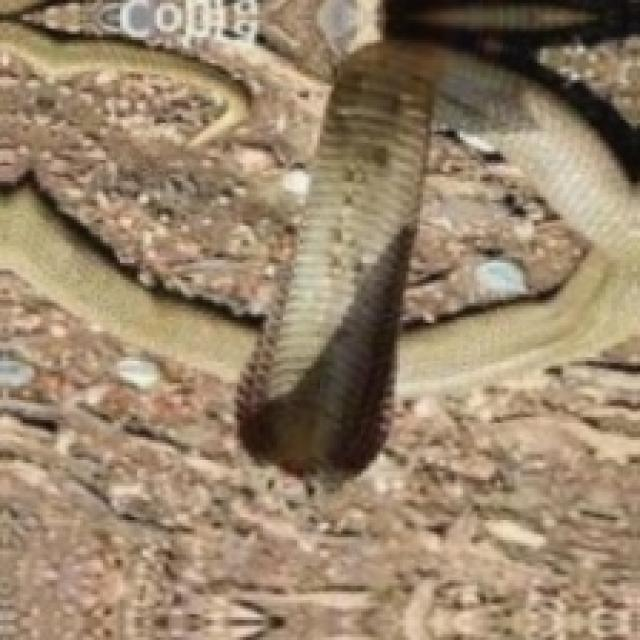philippine cobra: (240, 43, 637, 471), (0, 184, 256, 379)
